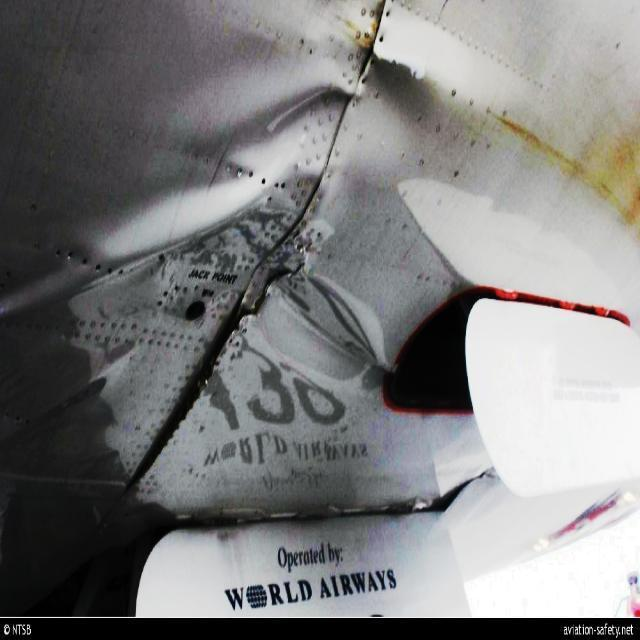crack: (227, 254, 310, 344)
dent: (85, 86, 349, 267)
